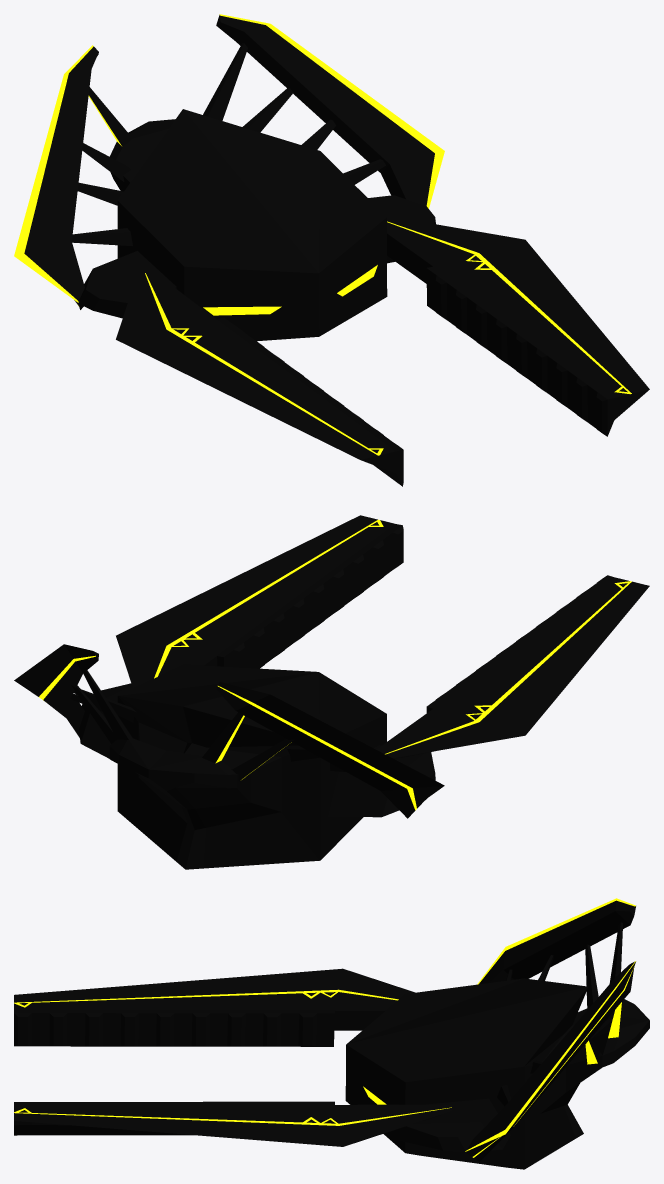
Rendered from electrocuter_drone_a.fbx.
The picture shows the model from 3 angles, top to bottom: view 1: azimuth 30°, elevation 25°; view 2: azimuth 150°, elevation 25°; view 3: azimuth 270°, elevation 25°; orthographic projection. The views are drawn at different scales.
Visible parts, largest first — view 1: ElectrocutterDrone.002; view 2: ElectrocutterDrone.002; view 3: ElectrocutterDrone.002.
Boxes of the visible parts, x1,y1,x2,y2 form: ElectrocutterDrone.002: [14, 14, 649, 486]; ElectrocutterDrone.002: [14, 515, 649, 869]; ElectrocutterDrone.002: [14, 898, 649, 1169].
Bounding box in the file's own units: 368 × 185 × 528.
